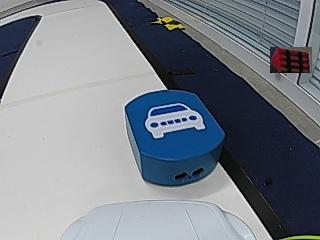safety: (145, 102, 207, 138)
